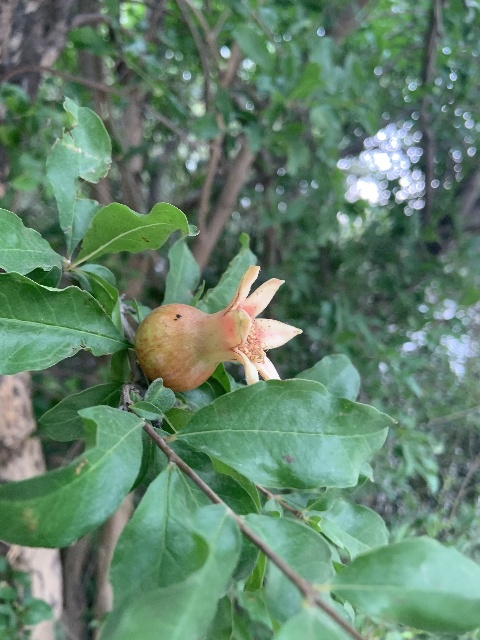early-fruit: (134, 265, 303, 393)
